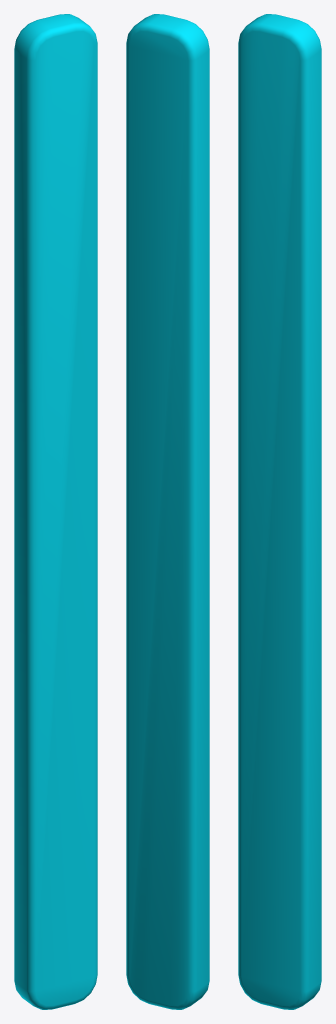
Rendered from led_strip_link_visual.obj.
3 renders of one model, left to right at view 1: azimuth 30°, elevation 25°; view 2: azimuth 150°, elevation 25°; view 3: azimuth 330°, elevation 25°, orthographic.
Visible parts, largest first — view 1: led_strip_link_visual.001; view 2: led_strip_link_visual.001; view 3: led_strip_link_visual.001.
Part boxes in pixels (x1,y1,x2,y2): led_strip_link_visual.001: (14,14,97,1009); led_strip_link_visual.001: (126,14,209,1009); led_strip_link_visual.001: (238,14,321,1009).
Size of the model in its own units: 0.018 by 0.24 by 0.008.
